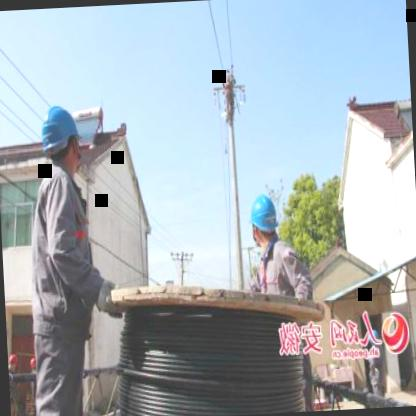helmet: (37, 99, 83, 177), (244, 187, 280, 252)
